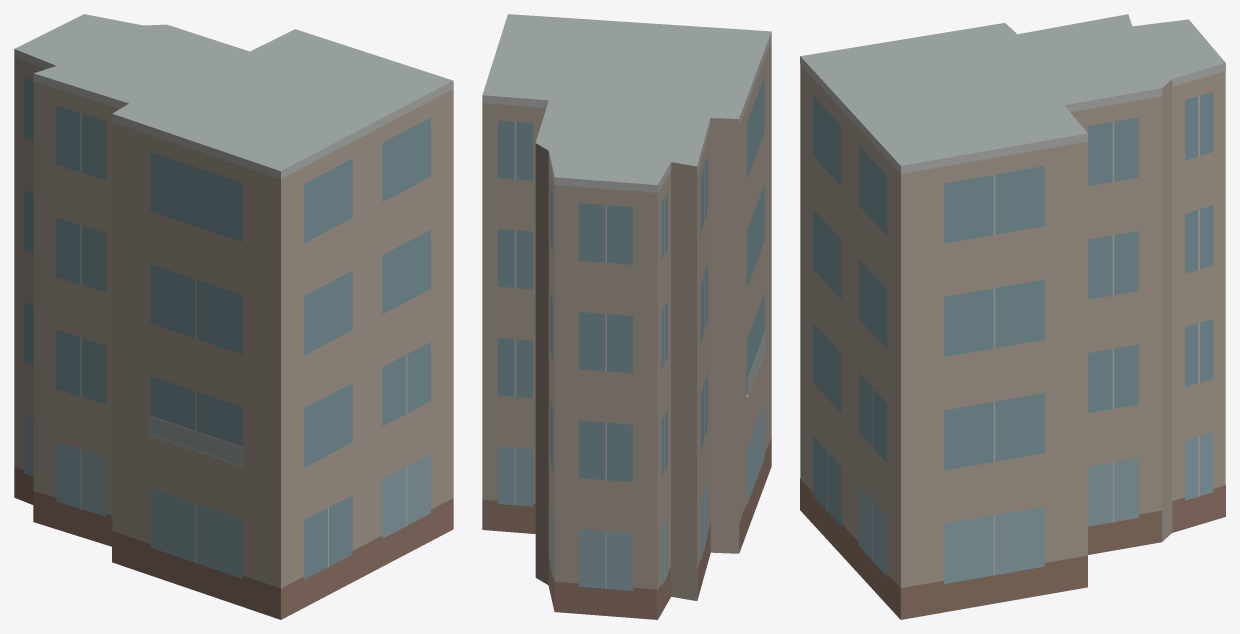
File: survey-upis-32646449.glb
The picture shows the model from 3 angles, left to right: view 1: azimuth 30°, elevation 25°; view 2: azimuth 150°, elevation 25°; view 3: azimuth 270°, elevation 25°; orthographic projection. The views are drawn at different scales.
Parts seen in each view (by area): view 1: survey-upis-32646449.tmp; view 2: survey-upis-32646449.tmp; view 3: survey-upis-32646449.tmp.
Boxes of the visible parts, x1=… form: survey-upis-32646449.tmp: x1=14, y1=14, x2=453, y2=619; survey-upis-32646449.tmp: x1=482, y1=14, x2=771, y2=619; survey-upis-32646449.tmp: x1=800, y1=14, x2=1225, y2=619.
Bounding box in the file's own units: 9.77 × 13.6 × 11.57.
